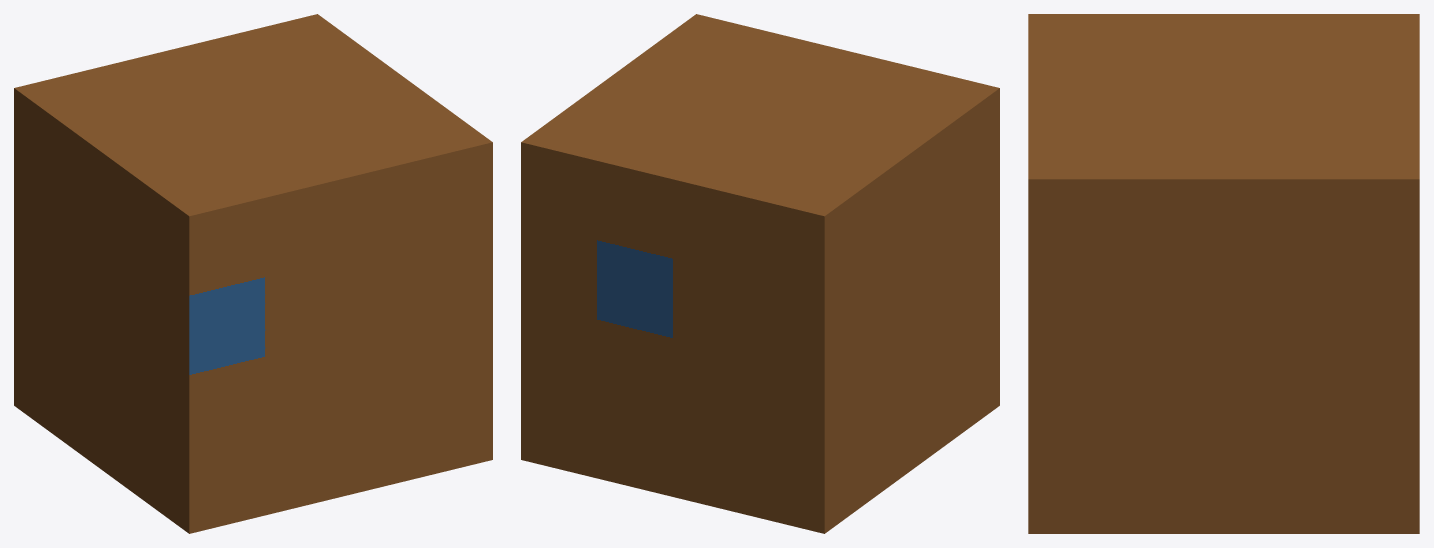
File: texcubebig.obj
3 renders of one model, left to right at view 1: azimuth 30°, elevation 25°; view 2: azimuth 150°, elevation 25°; view 3: azimuth 270°, elevation 25°, orthographic. The views are drawn at different scales.
Size of the model in its own units: 2 by 2 by 2.
Materials: 1 (1 with a texture image).
